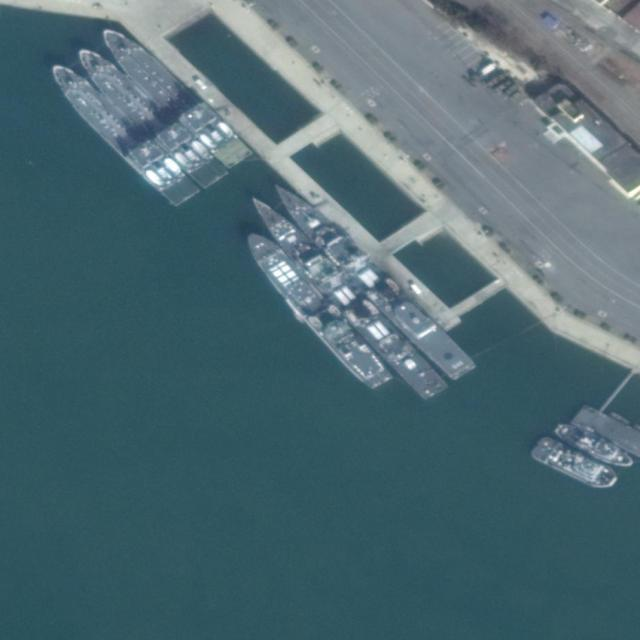Frigate: (268, 172, 476, 388), (244, 186, 449, 404)
Landing: (94, 17, 255, 175), (69, 36, 230, 191), (41, 56, 201, 211)
Other Warship: (235, 226, 395, 394), (528, 431, 620, 499), (548, 416, 637, 478)
